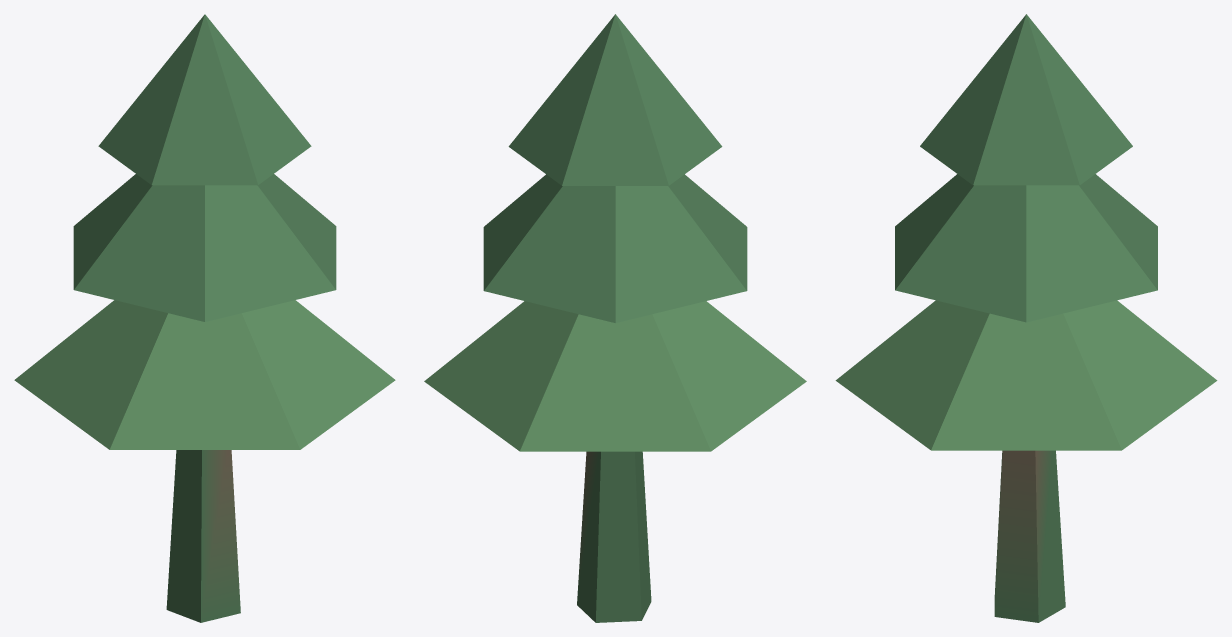
File: pine_0.glb
The picture shows the model from 3 angles, left to right: view 1: azimuth 30°, elevation 25°; view 2: azimuth 150°, elevation 25°; view 3: azimuth 270°, elevation 25°; orthographic projection.
Parts seen in each view (by area): view 1: Pine0; view 2: Pine0; view 3: Pine0.
Boxes of the visible parts, left/top/right/bottom form: Pine0: left=14, top=14, right=395, bottom=622; Pine0: left=424, top=14, right=806, bottom=622; Pine0: left=835, top=14, right=1217, bottom=622.
Bounding box in the file's own units: 0.5889 × 1.16 × 0.68.
